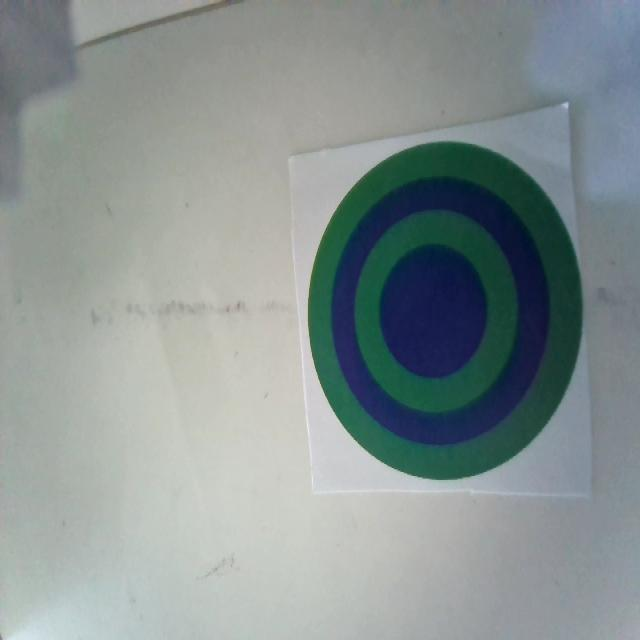cogn: (305, 140, 579, 479)
